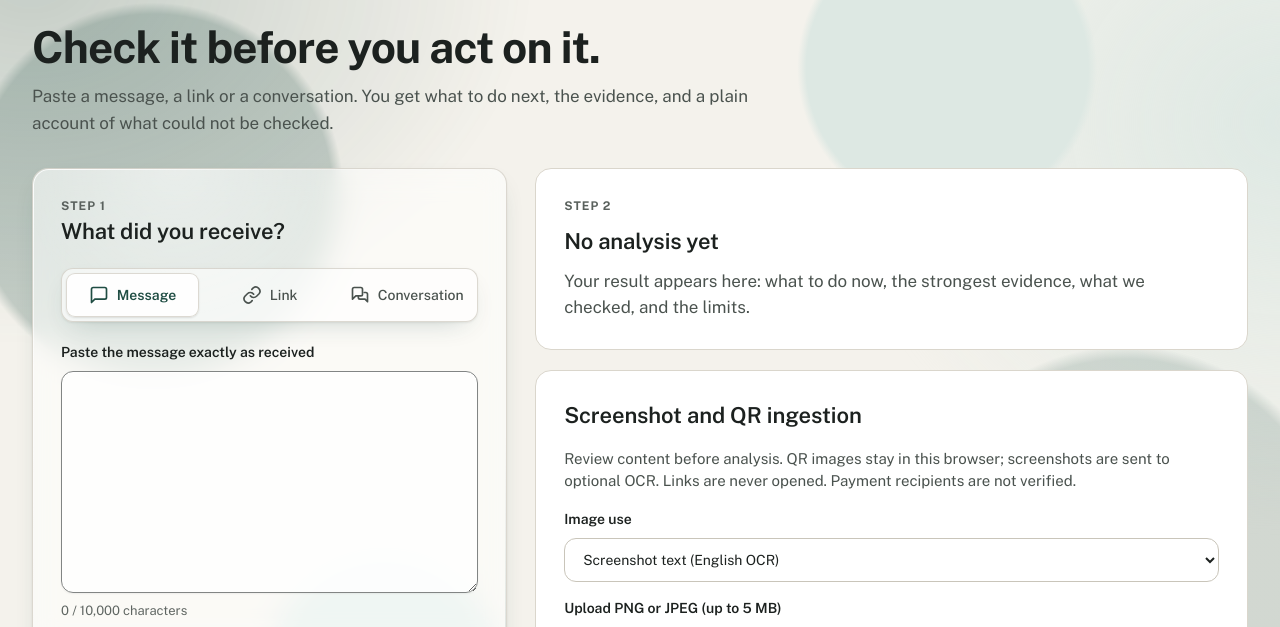
Test: App › checks a pasted message and shows the action card first
In the text box labelled "Paste the message exactly as received": (270, 482) [61,371,478,593], type "Send your OTP"
(page scrolled)
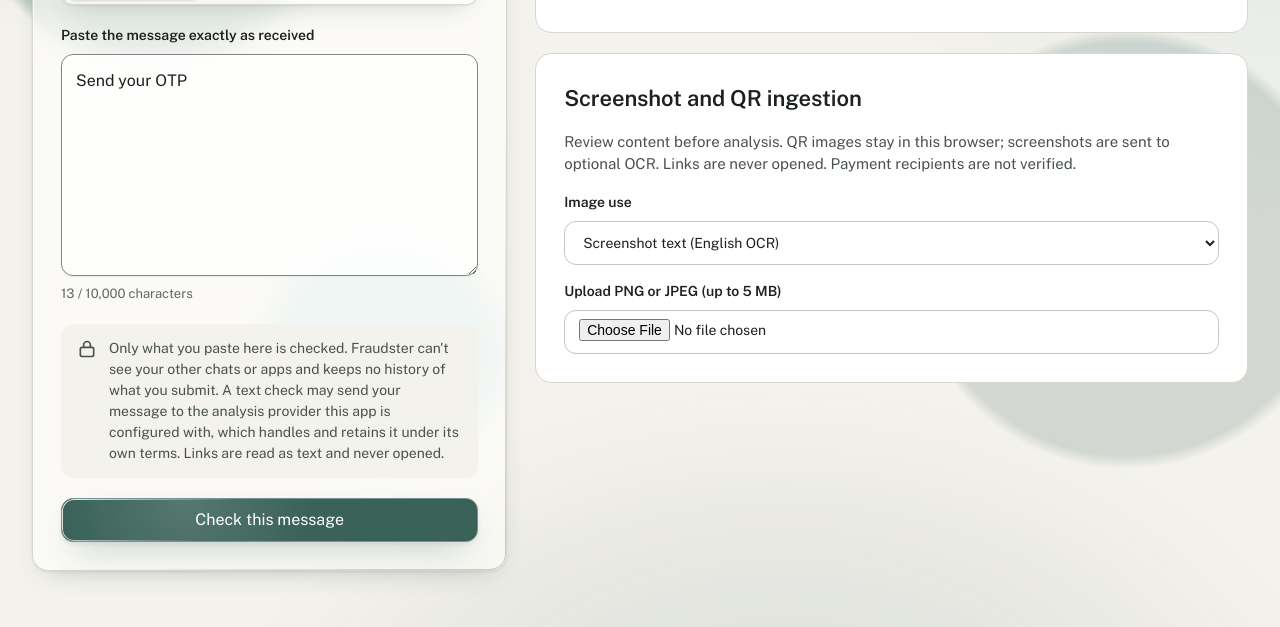
Click the button "Check this message": (270, 520) [61,498,478,542]
(page scrolled)
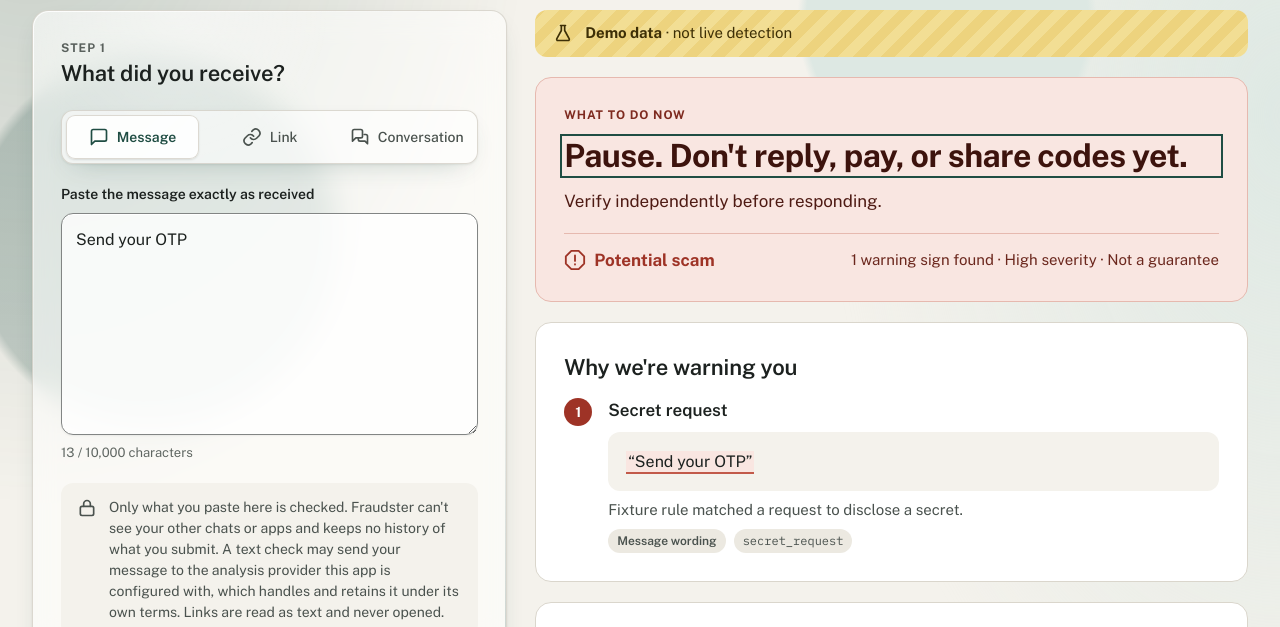
expect the text "Demo data" is shown: met, box [585,24,662,41]
